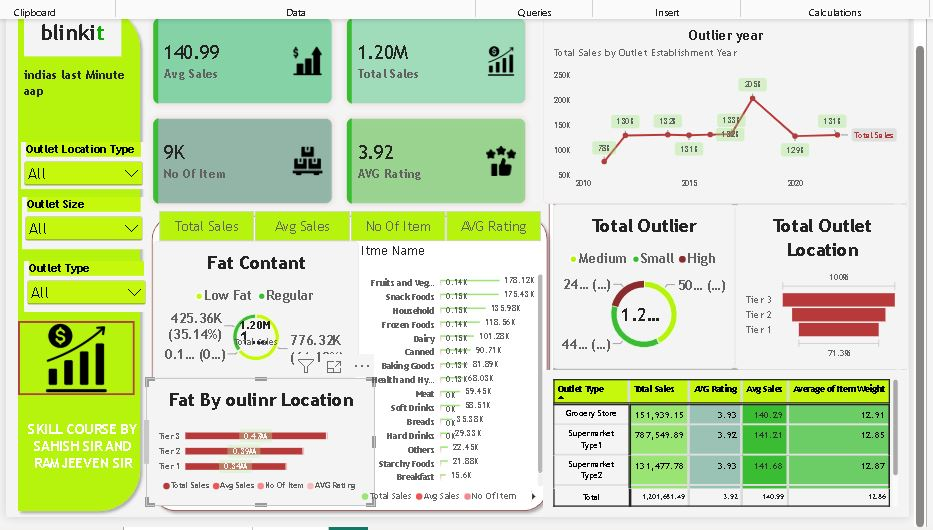

Layout of this report page (visuals, bound fields, positions):
{"tool":"powerbi","page":{"name":"Blinkit Dashbord","canvas":[1400,800],"ordinal":0},"visuals":[{"type":"shape","box":[9.4,0,207.9,800],"z":0},{"type":"textbox","box":[28.3,28.3,151.2,58.3],"z":1000},{"type":"textbox","box":[28.3,102.4,189,80.3],"z":2000},{"type":"cardVisual","fields":{"Data":["KPIS.Avg Sales","KPIS.Total Sales","KPIS.No Of Item","KPIS.AVG Rating"]},"box":[217.1,15.5,601.6,310.1],"z":3000},{"type":"shape","box":[832.6,0,566.9,800],"z":4000},{"type":"shape","box":[217.3,324.4,631.5,475.6],"z":5000},{"type":"donutChart","title":"Fat Contant","fields":{"Y":["KPIS.Total Sales","KPIS.Avg Sales","KPIS.No Of Item","KPIS.AVG Rating"],"Category":["BlinkIT Grocery Data.Item Fat Content"]},"box":[227.9,372.1,319.4,212.4],"z":6000},{"type":"slicer","fields":{"Values":["Matrix.Matrix"]},"box":[217.1,324,631,49.6],"z":7000},{"type":"shape","box":[217.1,584.5,355,26.4],"z":8000},{"type":"shape","box":[848.1,280.6,528.7,68.2],"z":9000},{"type":"shape","box":[848.1,562.8,531.8,15.5],"z":10000},{"type":"shape","box":[851.2,305.4,534.9,257.4],"z":11000},{"type":"barChart","title":"Fat By oulinr Location","fields":{"Y":["KPIS.Total Sales","KPIS.Avg Sales","KPIS.No Of Item","KPIS.AVG Rating"],"Category":["BlinkIT Grocery Data.Outlet Location Type"]},"box":[217.1,584.5,355,198.4],"z":12000},{"type":"clusteredBarChart","title":"Itme Name","fields":{"Y":["KPIS.Total Sales","KPIS.Avg Sales","KPIS.No Of Item","KPIS.AVG Rating"],"Category":["BlinkIT Grocery Data.Item Type"]},"box":[550.4,373.6,282.2,409.3],"z":13000},{"type":"cardVisual","fields":{"Data":["KPIS.Total Sales"]},"box":[310.1,482.2,155,66.7],"z":14000},{"type":"lineChart","title":"Outlier year","fields":{"Y":["KPIS.Total Sales"],"Category":["BlinkIT Grocery Data.Outlet Establishment Year"]},"box":[832.6,24.8,567.4,289.9],"z":15000},{"type":"donutChart","title":"Total Outlier","fields":{"Y":["KPIS.Total Sales"],"Category":["BlinkIT Grocery Data.Outlet Size"]},"box":[848.1,314.7,282.2,255.8],"z":16000},{"type":"funnel","title":"Total Outlet Location ","fields":{"Category":["BlinkIT Grocery Data.Outlet Location Type"],"Y":["KPIS.Total Sales"]},"box":[1130.2,314.7,269.8,257.4],"z":17000},{"type":"pivotTable","fields":{"Rows":["BlinkIT Grocery Data.Outlet Type"],"Values":["KPIS.Total Sales","KPIS.AVG Rating","KPIS.Avg Sales","Avg(BlinkIT Grocery Data.Item Weight)"]},"box":[832.6,572.1,567.4,227.9],"z":18000},{"type":"slicer","fields":{"Values":["BlinkIT Grocery Data.Outlet Location Type"]},"box":[23.3,218.6,193.8,72.9],"z":19000},{"type":"slicer","fields":{"Values":["BlinkIT Grocery Data.Outlet Size"]},"box":[24.8,303.9,192.2,80.6],"z":20000},{"type":"slicer","fields":{"Values":["BlinkIT Grocery Data.Outlet Type"]},"box":[27.9,403.1,193.8,79.1],"z":21000},{"type":"image","box":[18.6,496.1,181.4,114.7],"z":21001},{"type":"textbox","box":[24.8,649.6,196.9,74.4],"z":21002}]}

Visuals, with their boxes on the page's 1400x800 design canvas (x1, y1, x2, y2). These are canvas units, not pixel positions in the 933x530 screenshot, which may show the page scaled, cropped or inside an application window:
shape: crop(9, 0, 217, 800)
textbox: crop(28, 28, 180, 87)
textbox: crop(28, 102, 217, 183)
cardVisual - KPIS.Avg Sales x KPIS.Total Sales: crop(217, 16, 819, 326)
shape: crop(833, 0, 1400, 800)
shape: crop(217, 324, 849, 800)
"Fat Contant" donutChart: crop(228, 372, 547, 584)
slicer - Matrix.Matrix: crop(217, 324, 848, 374)
shape: crop(217, 584, 572, 611)
shape: crop(848, 281, 1377, 349)
shape: crop(848, 563, 1380, 578)
shape: crop(851, 305, 1386, 563)
"Fat By oulinr Location" barChart: crop(217, 584, 572, 783)
"Itme Name" clusteredBarChart: crop(550, 374, 833, 783)
cardVisual - KPIS.Total Sales: crop(310, 482, 465, 549)
"Outlier year" lineChart: crop(833, 25, 1400, 315)
"Total Outlier" donutChart: crop(848, 315, 1130, 570)
"Total Outlet Location " funnel: crop(1130, 315, 1400, 572)
pivotTable - BlinkIT Grocery Data.Outlet Type x KPIS.Total Sales: crop(833, 572, 1400, 800)
slicer - BlinkIT Grocery Data.Outlet Location Type: crop(23, 219, 217, 292)
slicer - BlinkIT Grocery Data.Outlet Size: crop(25, 304, 217, 384)
slicer - BlinkIT Grocery Data.Outlet Type: crop(28, 403, 222, 482)
image: crop(19, 496, 200, 611)
textbox: crop(25, 650, 222, 724)
